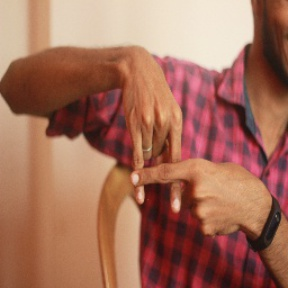H: (125, 118, 214, 219)
